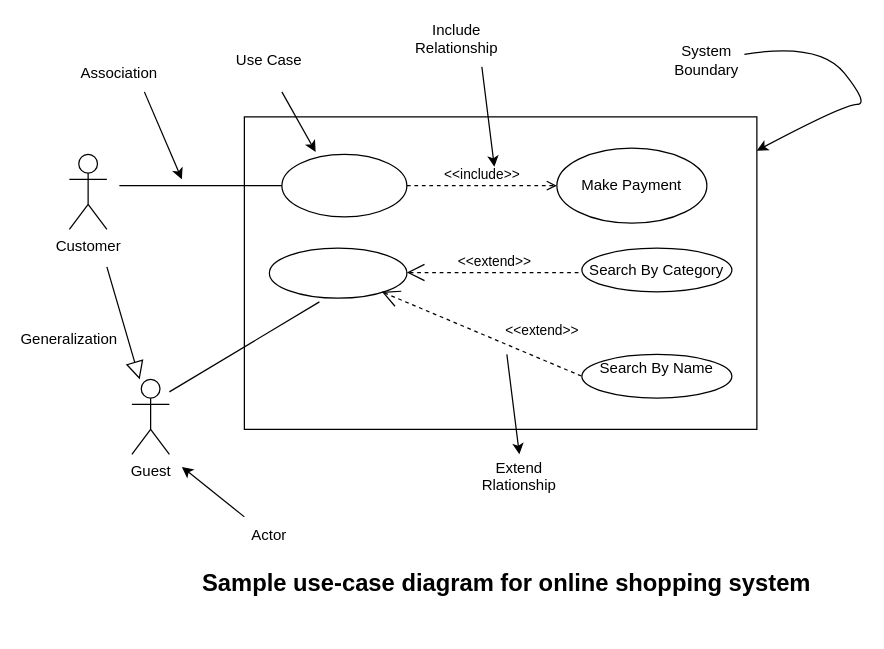
This 884x649 diagram has some shape labels left out. Each missing label, with the centre of its shape:
Checkout Shopping cart: the point at 344,185
Search Product: the point at 337,272
